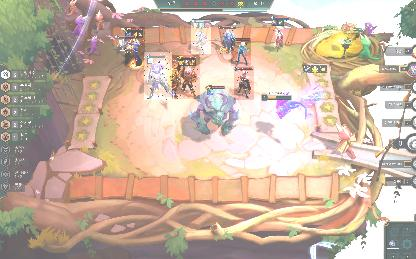1_leona: (217, 26, 237, 54)
2_ezreal: (231, 38, 251, 66)
2_pantheon: (144, 52, 172, 100)
2_rakan: (234, 66, 254, 100)
2_twitch: (114, 36, 134, 52)
2_varus: (191, 20, 211, 54)
2_xayah: (270, 16, 290, 54)
3_braum: (172, 55, 200, 99)
3_yone: (125, 27, 145, 67)
